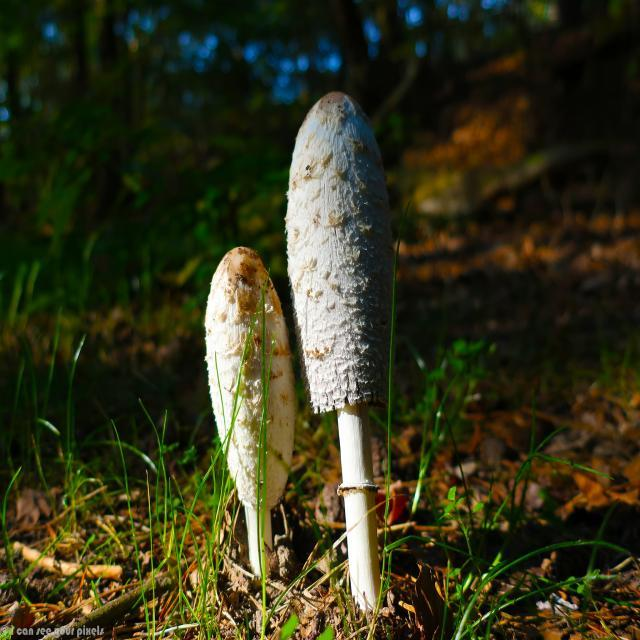Coprinus comatus: (284, 91, 391, 605), (204, 245, 296, 573)
